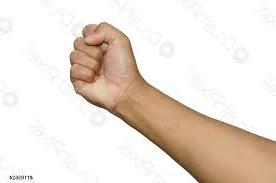Raised-Fist: (67, 20, 161, 122)
